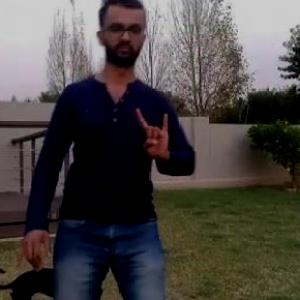takeoff-hand: (132, 104, 176, 170)
